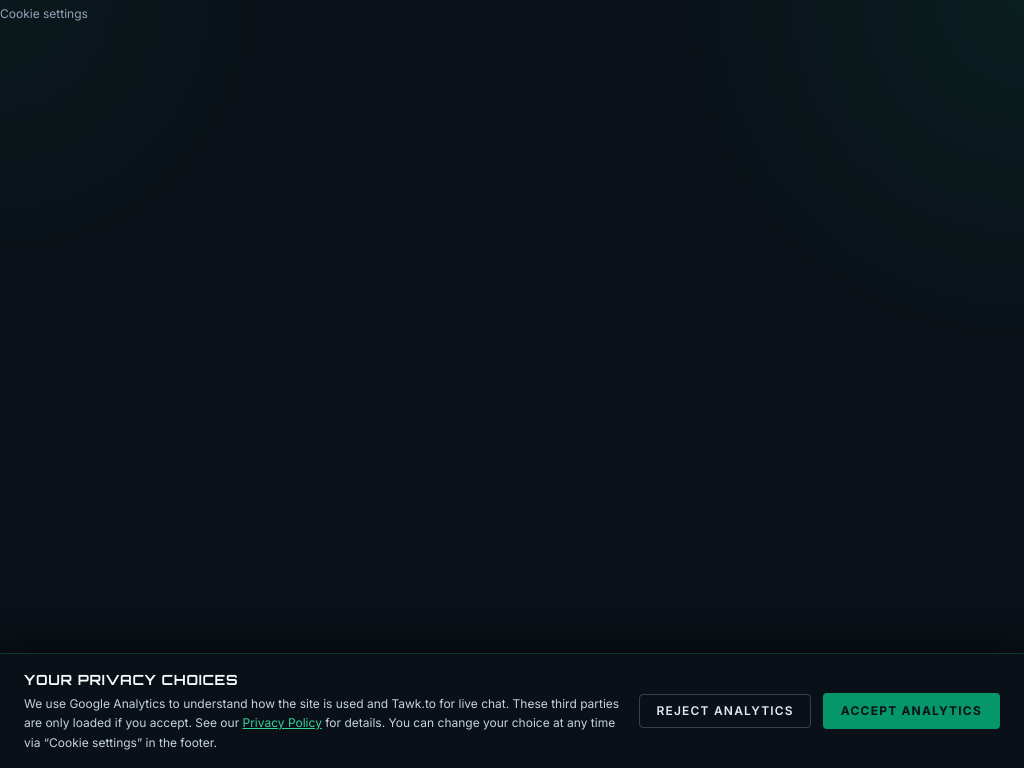
Scenario: consent-gated third-party scripts [PRIV-P2-001] › loads GA and Tawk.to only after accepting analytics
Click the button "Accept analytics" at x=911, y=711, box [823,693,1000,729]
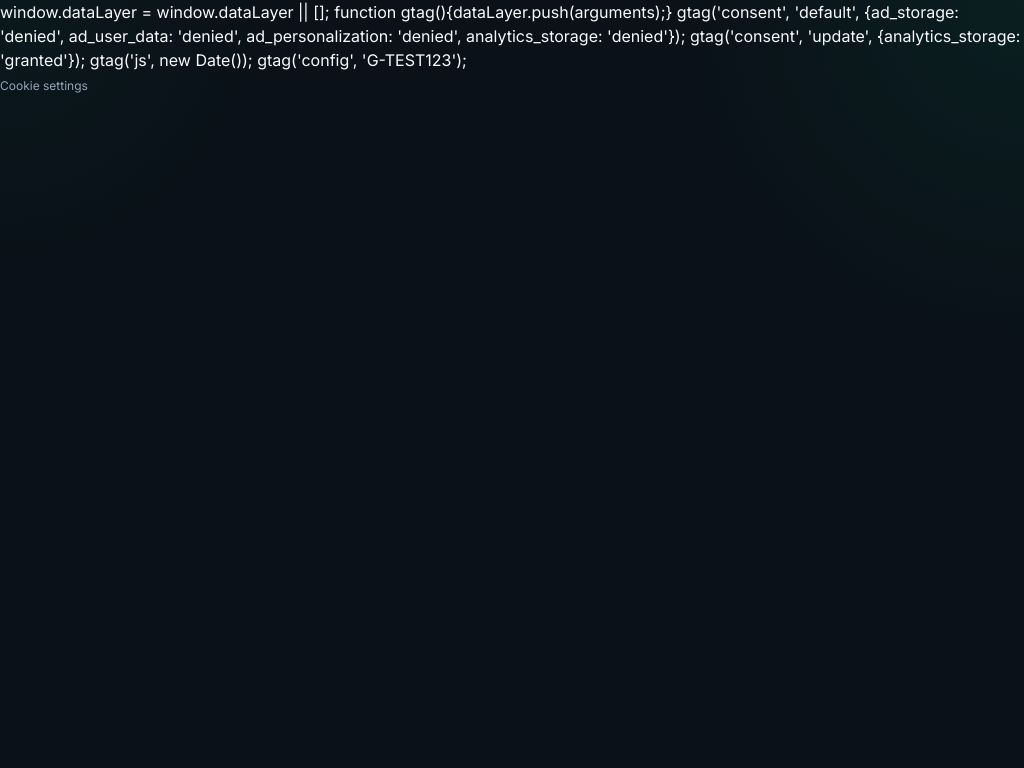
Expected: the dialog is gone
